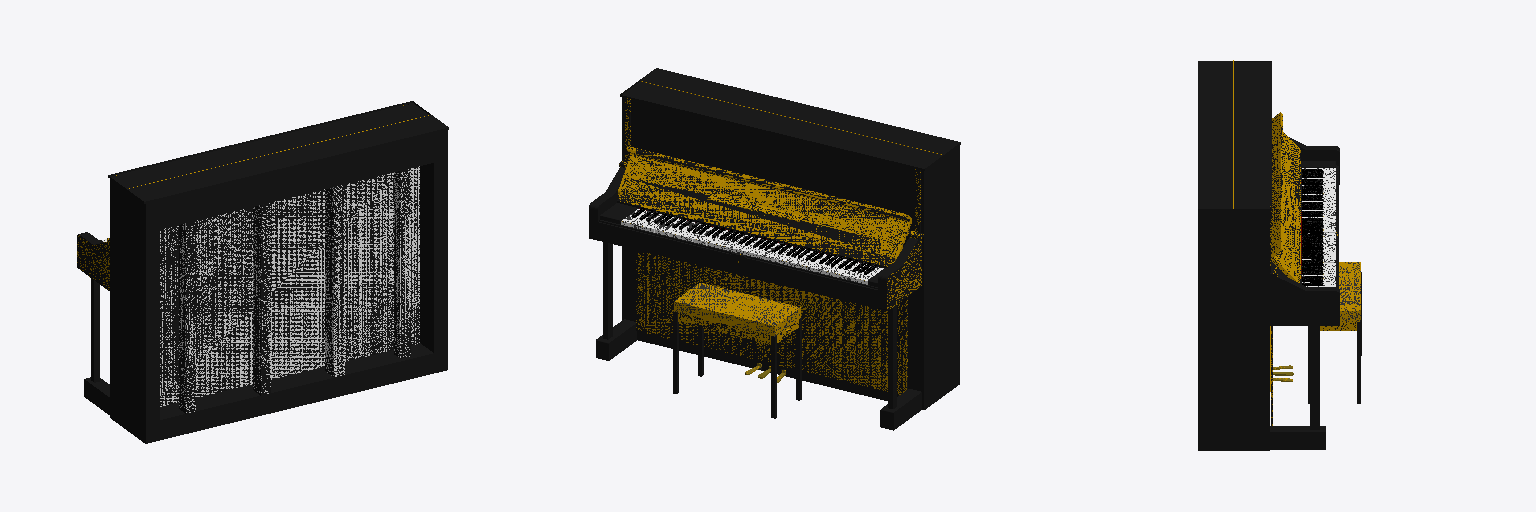
3 views of the same model, side by side, from view 1: azimuth 30°, elevation 25°; view 2: azimuth 150°, elevation 25°; view 3: azimuth 270°, elevation 25° (orthographic).
Visible parts, largest first — view 1: mesh37_mesh37-geometry; view 2: mesh37_mesh37-geometry, mesh38_mesh38-geometry, mesh41_mesh41-geometry, mesh4_mesh4-geometry, mesh2_mesh2-geometry, mesh6_mesh6-geometry, mesh9_mesh9-geometry; view 3: mesh37_mesh37-geometry, mesh38_mesh38-geometry, mesh41_mesh41-geometry, mesh4_mesh4-geometry, mesh2_mesh2-geometry.
Boxes of the visible parts, x1=… form: mesh37_mesh37-geometry: x1=77, y1=101, x2=448, y2=443; mesh37_mesh37-geometry: x1=589, y1=68, x2=960, y2=430; mesh38_mesh38-geometry: x1=618, y1=146, x2=911, y2=260; mesh41_mesh41-geometry: x1=673, y1=283, x2=801, y2=418; mesh4_mesh4-geometry: x1=654, y1=213, x2=876, y2=274; mesh2_mesh2-geometry: x1=631, y1=211, x2=860, y2=279; mesh6_mesh6-geometry: x1=626, y1=210, x2=878, y2=283; mesh9_mesh9-geometry: x1=640, y1=214, x2=859, y2=278; mesh37_mesh37-geometry: x1=1198, y1=61, x2=1339, y2=450; mesh38_mesh38-geometry: x1=1271, y1=112, x2=1300, y2=282; mesh41_mesh41-geometry: x1=1308, y1=262, x2=1361, y2=403; mesh4_mesh4-geometry: x1=1301, y1=169, x2=1322, y2=274; mesh2_mesh2-geometry: x1=1302, y1=177, x2=1335, y2=282.
Bounding box in the file's own units: 0.7469 × 0.5678 × 0.346.
15 materials, 2 textured.